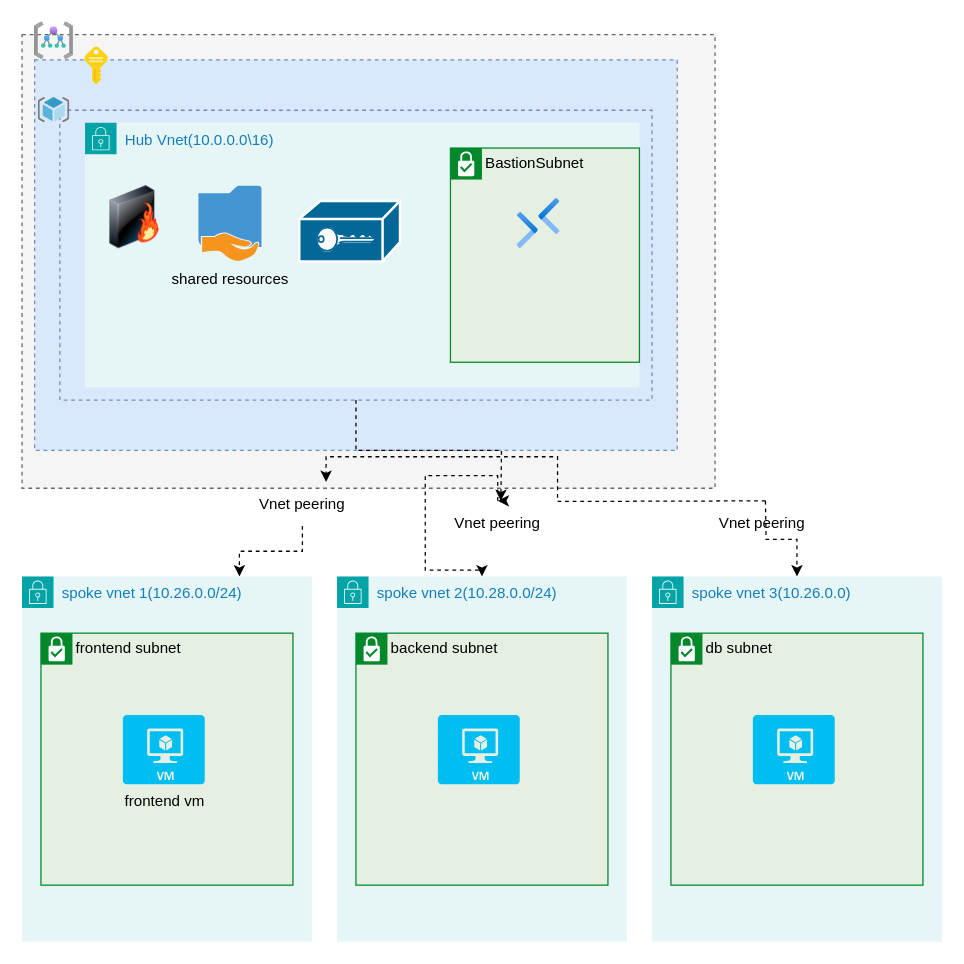
The diagram is 964 pixels wide and 964 high, and some of its shapes have lost their labels. Here are the shapes that lost their labels. From the top down, the centre of each, then its label:
the point at 134,216: firewall
the point at 349,230: VPN gatway
the point at 538,223: Public IP 114.0.0.5
the point at 478,749: backend vm
the point at 793,749: db vm
